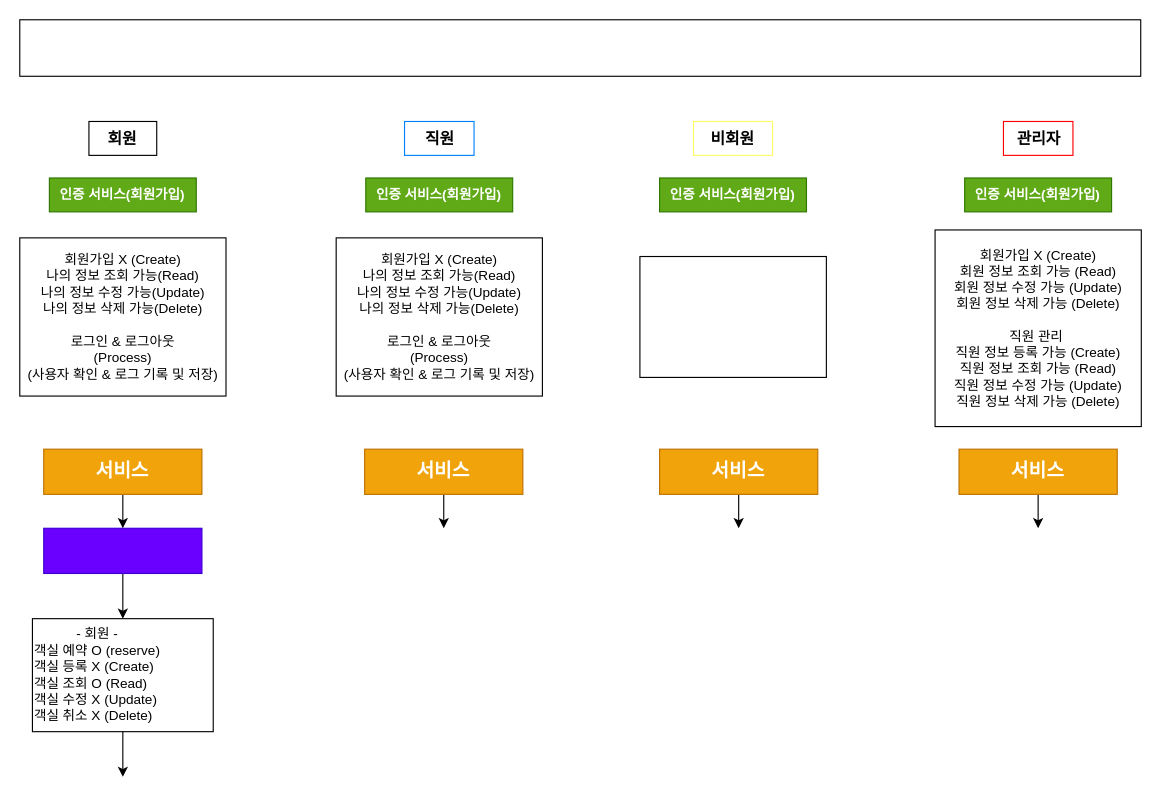
This 1162x806 diagram has some shape labels left out. The shapes that lost their labels are listed below. From the top down, each one's centre as x and y in pixels, then its label:
(x=580, y=47): 쇼핑몰 웹사이트(도이도리)
(x=732, y=316): 회원가입 가능(Create)
(x=122, y=550): 구입 서비스
